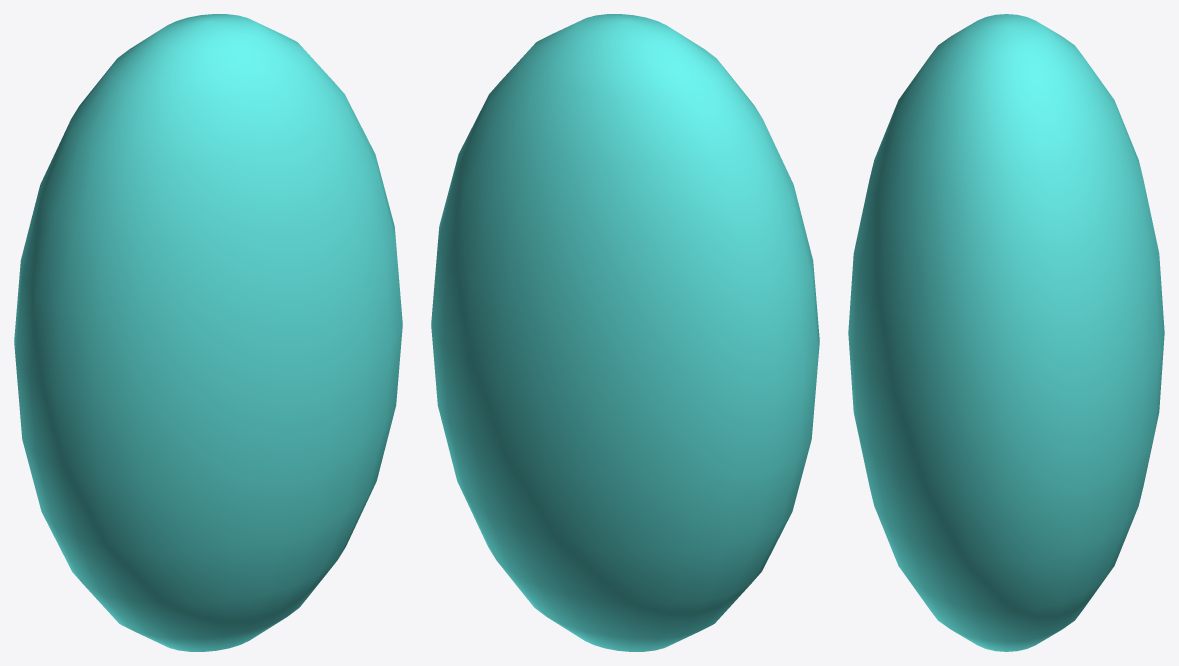
The model's file is spark.glb.
3 renders of one model, left to right at view 1: azimuth 30°, elevation 25°; view 2: azimuth 150°, elevation 25°; view 3: azimuth 270°, elevation 25°, orthographic.
Parts seen in each view (by area): view 1: spark; view 2: spark; view 3: spark.
Boxes of the visible parts, x1=… form: spark: x1=14, y1=14, x2=402, y2=651; spark: x1=431, y1=14, x2=819, y2=651; spark: x1=848, y1=14, x2=1164, y2=651.
Bounding box in the file's own units: 0.18 × 0.3 × 0.14.
